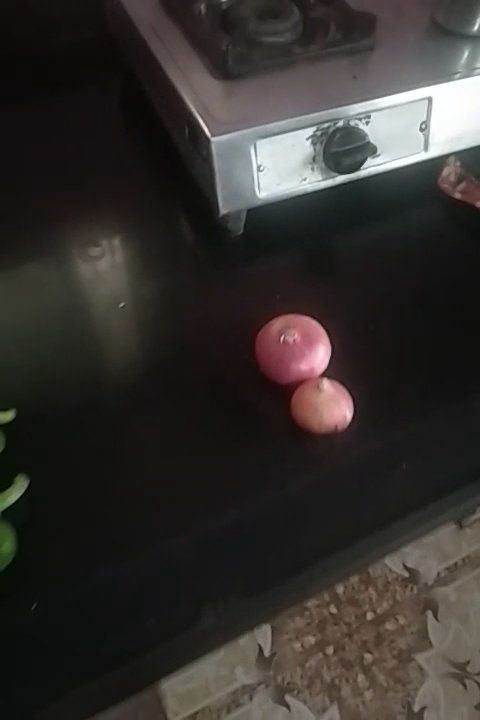capsicum: (1, 471, 23, 576)
onion: (249, 316, 339, 384), (289, 380, 367, 436)
